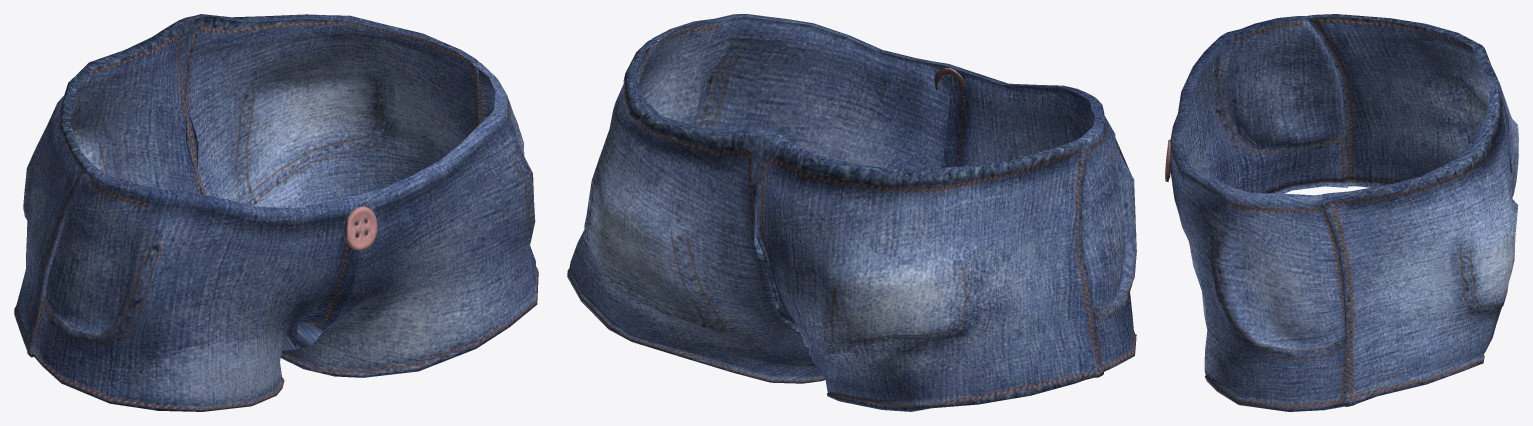
File: bottom_denim_shorts.gltf
The picture shows the model from 3 angles, left to right: view 1: azimuth 30°, elevation 25°; view 2: azimuth 150°, elevation 25°; view 3: azimuth 270°, elevation 25°; orthographic projection. The views are drawn at different scales.
Visible parts, largest first — view 1: bottom_denim_shorts; view 2: bottom_denim_shorts; view 3: bottom_denim_shorts.
Part boxes in pixels (<box>): bottom_denim_shorts: <box>14,14,538,411</box>; bottom_denim_shorts: <box>567,14,1136,411</box>; bottom_denim_shorts: <box>1165,14,1518,411</box>.
Size of the model in its own units: 0.3758 by 0.21 by 0.253.
1 material, 1 textured.
